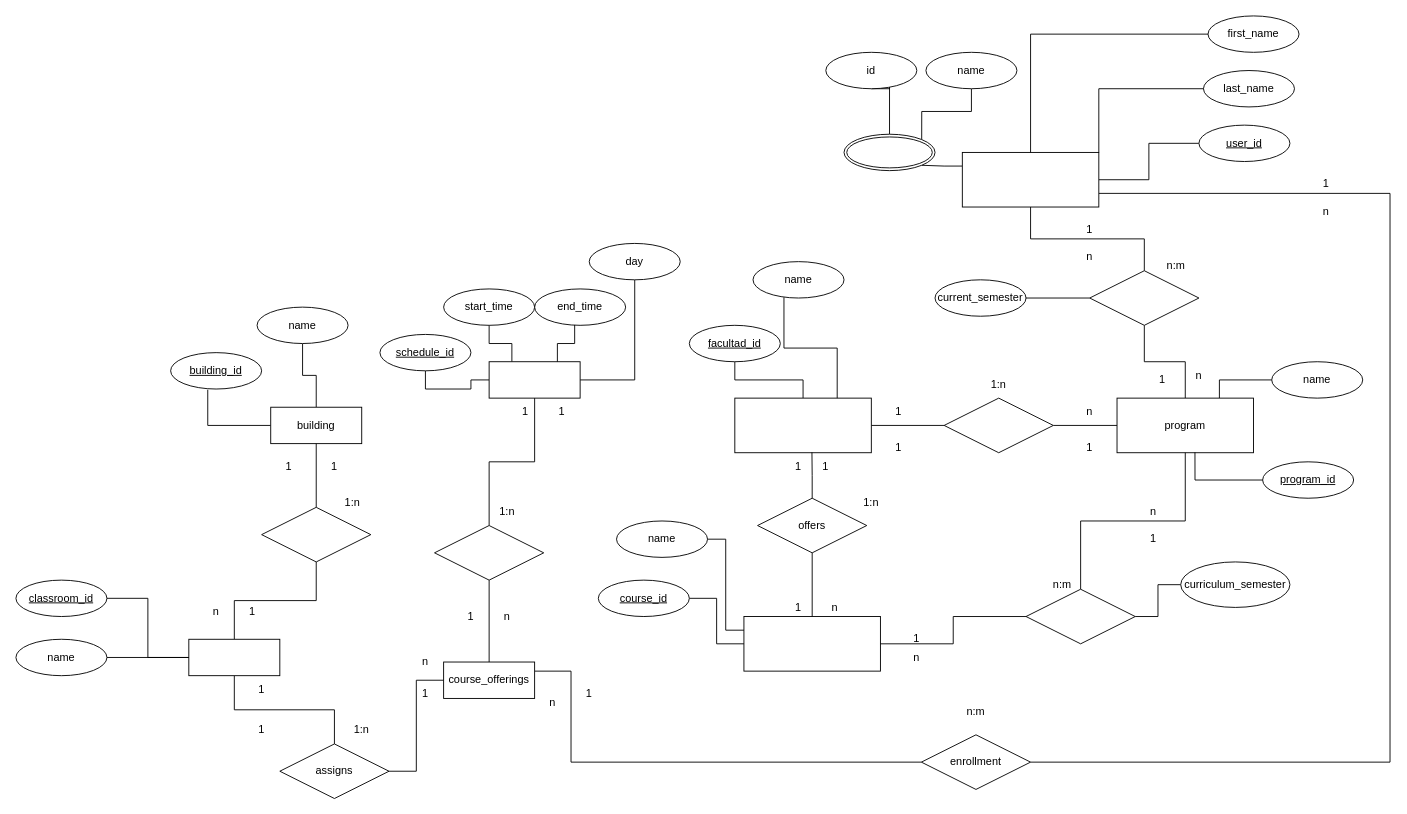
Image size: 1407x814. Some labels were removed from this diagram. Here are the shapes that lost their labels. From the top down, the centre of each, then its label:
At pixel 889 152: "rol".
At pixel 1030 179: "user".
At pixel 1144 297: "pertain".
At pixel 534 379: "schedule".
At pixel 802 425: "faculty".
At pixel 998 425: "has".
At pixel 316 534: "contains".
At pixel 489 552: "defines".
At pixel 1080 616: "belongs".
At pixel 234 657: "classroom".
At pixel 811 643: "course".
